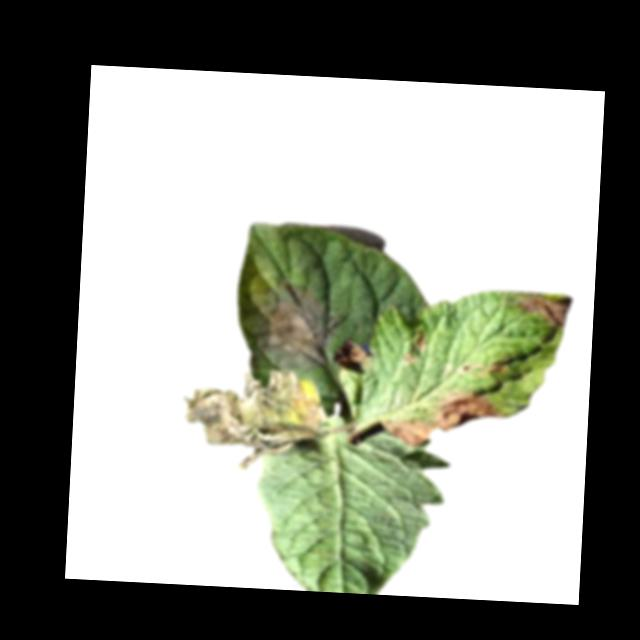Late_blight: (180, 365, 334, 477), (379, 384, 507, 452), (253, 274, 337, 371), (503, 290, 573, 333), (332, 338, 374, 377), (457, 358, 511, 381), (399, 327, 427, 367)
